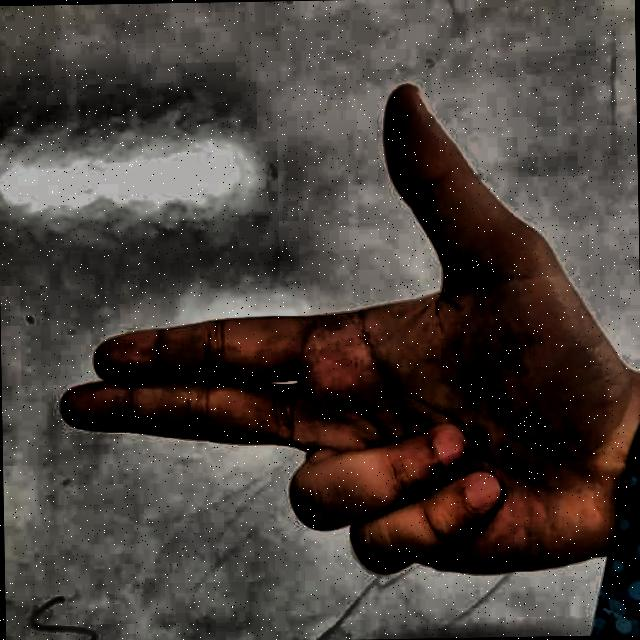Jha: (42, 57, 612, 620)
